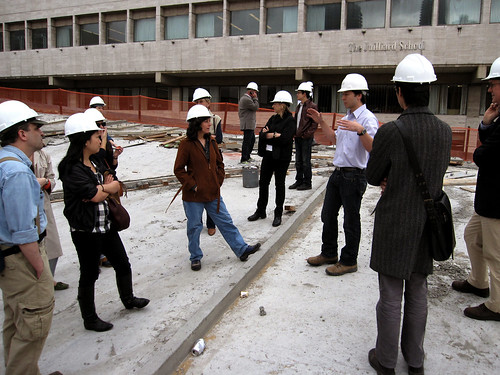person hardhat: (366, 53, 442, 375), (56, 113, 145, 333), (1, 98, 63, 374), (180, 104, 257, 274), (308, 73, 371, 278), (471, 56, 500, 337), (78, 106, 119, 272), (192, 84, 222, 240), (254, 89, 287, 229), (291, 82, 324, 191), (86, 88, 113, 161), (240, 79, 255, 172)
